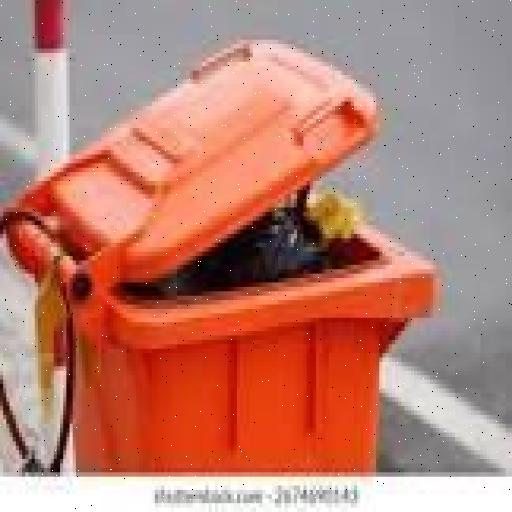poubelle_pleine: (10, 72, 444, 472)
